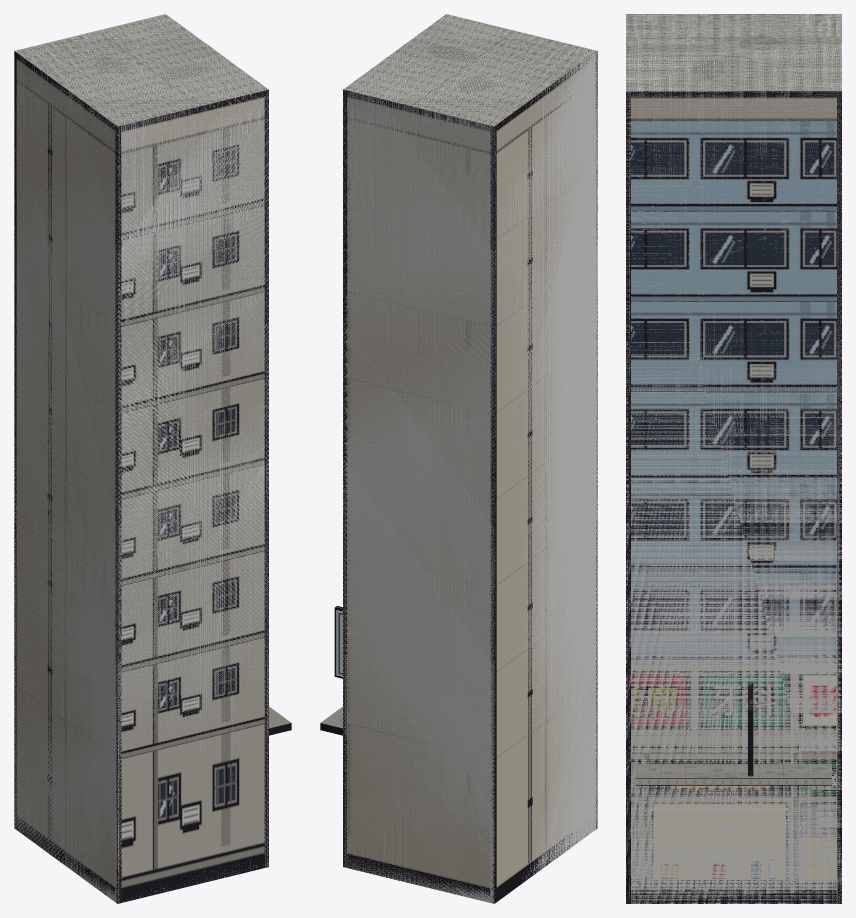
3 renders of one model, left to right at view 1: azimuth 30°, elevation 25°; view 2: azimuth 150°, elevation 25°; view 3: azimuth 270°, elevation 25°, orthographic. The views are drawn at different scales.
Parts seen in each view (by area): view 1: 19D-E19, COL_19D-E19_0; view 2: COL_19D-E19_0, 19D-E19; view 3: 19D-E19, COL_19D-E19_0.
Part boxes in pixels (box(x1,y1,x2,y2)): 19D-E19: box(14, 14, 291, 903); COL_19D-E19_0: box(14, 14, 268, 903); COL_19D-E19_0: box(343, 14, 597, 903); 19D-E19: box(320, 14, 597, 903); 19D-E19: box(626, 14, 841, 903); COL_19D-E19_0: box(626, 14, 841, 903).
Size of the model in its own units: 7.35 by 27 by 6.5.
Materials: 1 (1 with a texture image).
